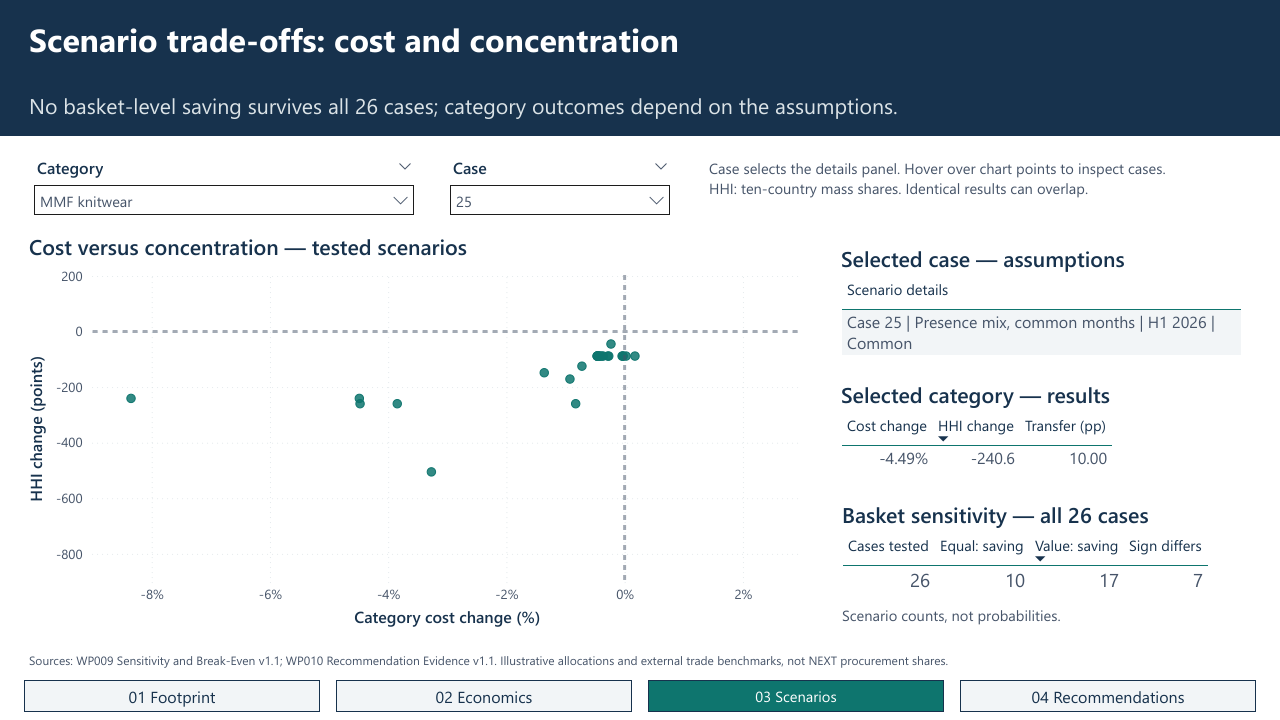

This screenshot's page, from the dashboard's own definition file:
{"tool":"powerbi","page":{"name":"03 Scenarios","canvas":[1280,720],"ordinal":3},"visuals":[{"type":"shape","box":[0,0,1280,136],"z":0},{"type":"textbox","box":[24,12,1232,60],"z":1000},{"type":"textbox","box":[24,86.4,1232.3,42],"z":2000},{"type":"pageNavigator","box":[24,680,1232,32],"z":3000},{"type":"slicer","fields":{"Values":["DimCategory.Category"]},"box":[24,152,400,64],"z":4000},{"type":"scatterChart","title":"Cost versus concentration — tested scenarios","fields":{"X":["FactScenarioCategory.Category Cost Change %"],"Y":["FactScenarioCategory.Category HHI Change"],"Category":["DimScenario.Case ID"]},"box":[24,232,792,400],"z":5000},{"type":"slicer","fields":{"Values":["DimScenario.Case ID"]},"box":[440,152,240,64],"z":6000},{"type":"tableEx","title":"Selected case — assumptions","fields":{"Values":["DimScenario.Scenario Selection Label"]},"box":[836,244,420,116],"z":7000},{"type":"tableEx","title":"Selected category — results","fields":{"Values":["FactScenarioCategory.Category Cost Change %","FactScenarioCategory.Category HHI Change","FactScenarioCategory.Category Transfer pp"]},"box":[836,380,420,95],"z":8000},{"type":"tableEx","title":"Basket sensitivity — all 26 cases","fields":{"Values":["FactBasket.Basket Cases in View","FactBasket.Basket Saving Cases Equal","FactBasket.Basket Saving Cases Value","FactBasket.Basket Sign Disagreement Cases"]},"box":[836.7,500,420,98],"z":9000},{"type":"textbox","box":[836.7,600,420,36],"z":10000},{"type":"textbox","box":[704.1,152.5,551.6,64.1],"z":11000},{"type":"textbox","box":[24,644,1232,30],"z":12000}]}

Visuals, with their boxes in screenshot pixels (x1, y1, x2, y2), scaled from the page's 1280x720 canvas onto the 1280x720 screenshot:
shape: bbox=[0, 0, 1279, 136]
textbox: bbox=[24, 12, 1256, 72]
textbox: bbox=[24, 86, 1256, 128]
pageNavigator: bbox=[24, 680, 1256, 712]
slicer - DimCategory.Category: bbox=[24, 152, 424, 216]
"Cost versus concentration — tested scenarios" scatterChart: bbox=[24, 232, 816, 632]
slicer - DimScenario.Case ID: bbox=[440, 152, 680, 216]
"Selected case — assumptions" tableEx: bbox=[836, 244, 1256, 360]
"Selected category — results" tableEx: bbox=[836, 380, 1256, 475]
"Basket sensitivity — all 26 cases" tableEx: bbox=[837, 500, 1257, 598]
textbox: bbox=[837, 600, 1257, 636]
textbox: bbox=[704, 152, 1256, 217]
textbox: bbox=[24, 644, 1256, 674]
